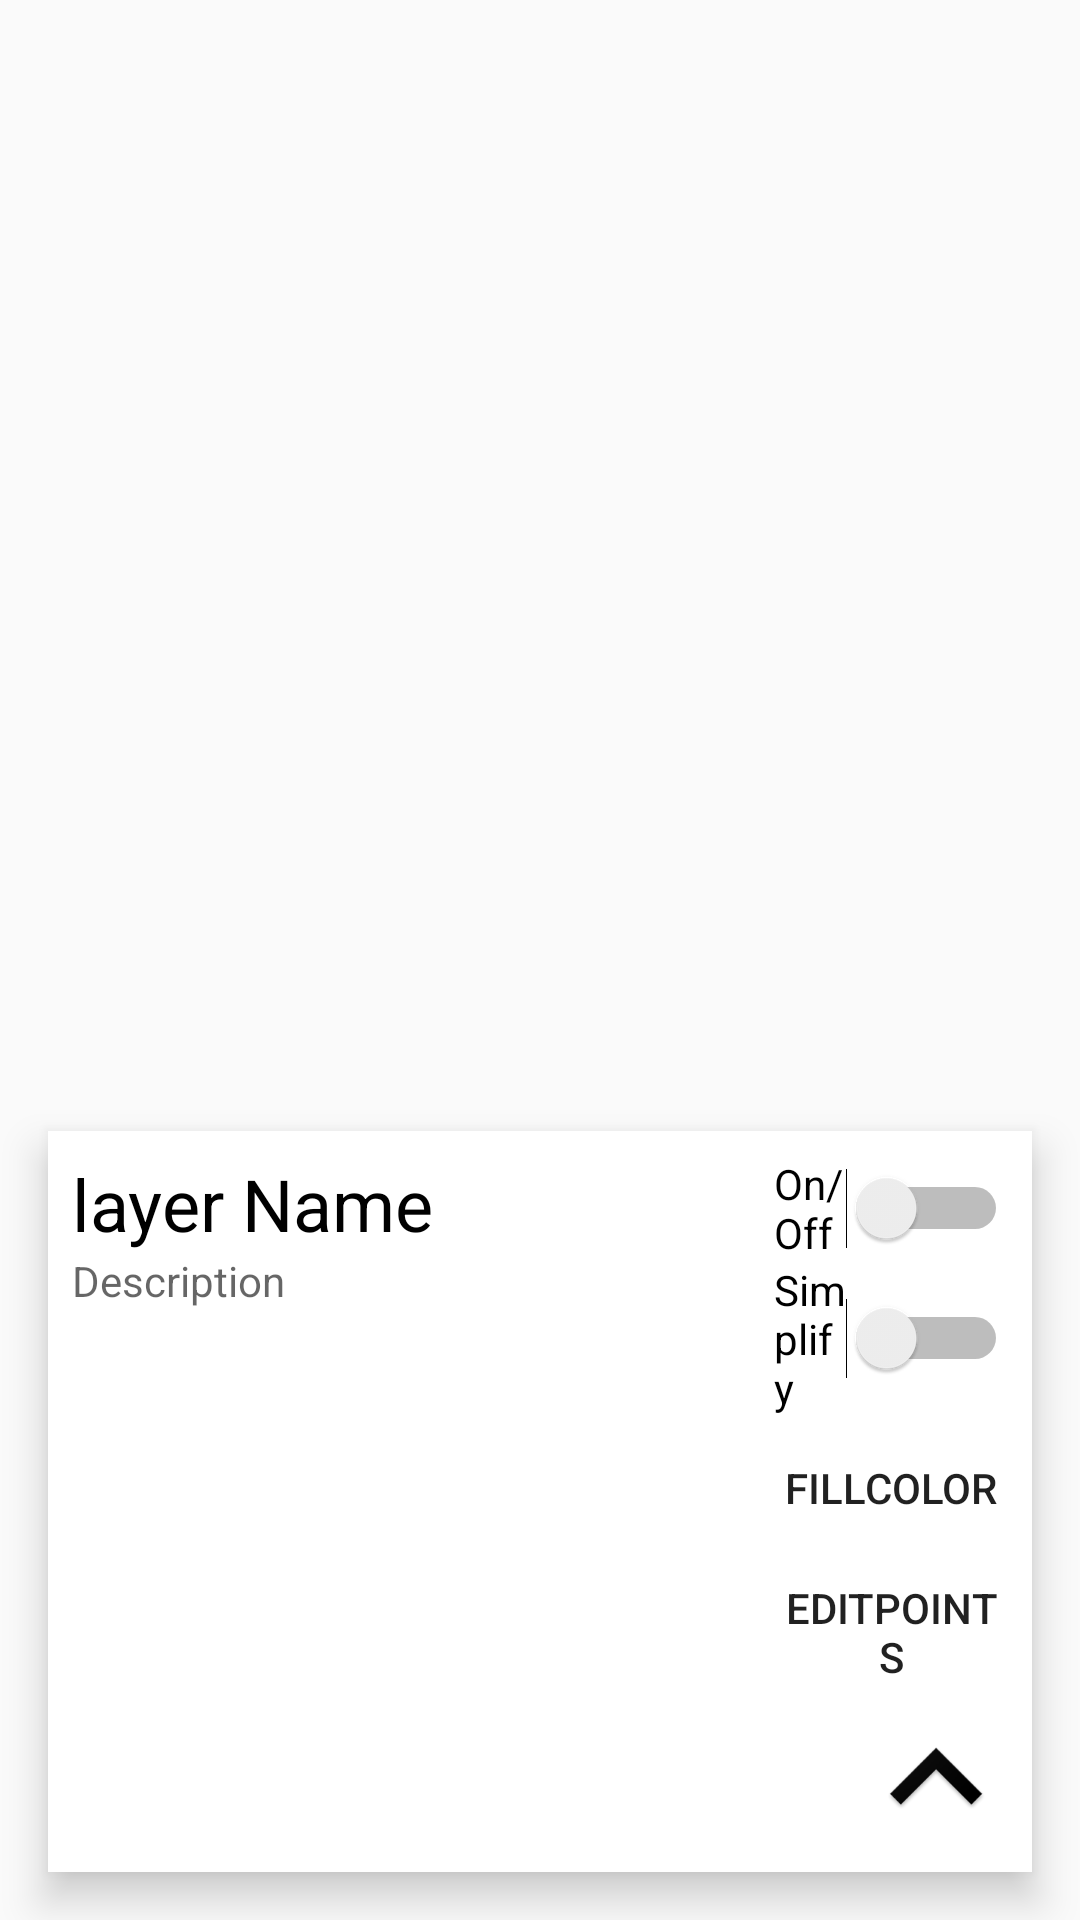

Locate icon controls on the screen. Image size 1080 x 1920, boxes as (x1, y1, x2, y2).
show less: (890, 1747, 983, 1806)
